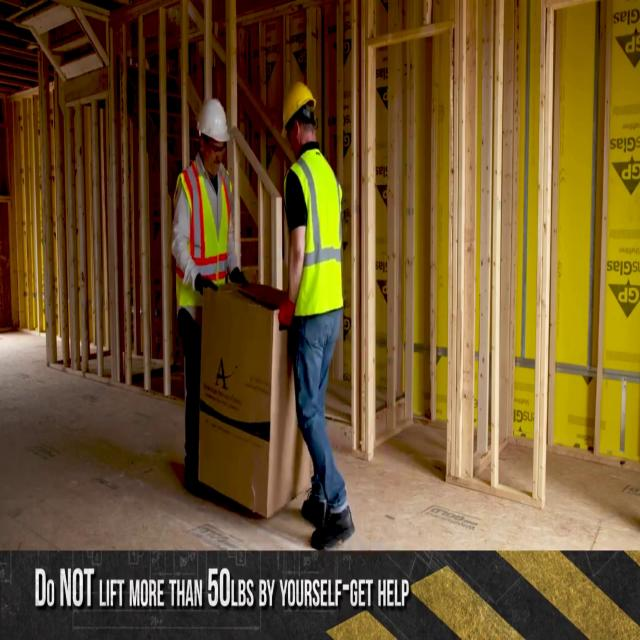Hard_hat: (195, 98, 233, 146), (281, 80, 316, 131), (177, 452, 201, 492)
Safety_boots: (306, 507, 358, 549), (293, 483, 327, 531)
Vest: (282, 132, 348, 330), (177, 166, 236, 301)
